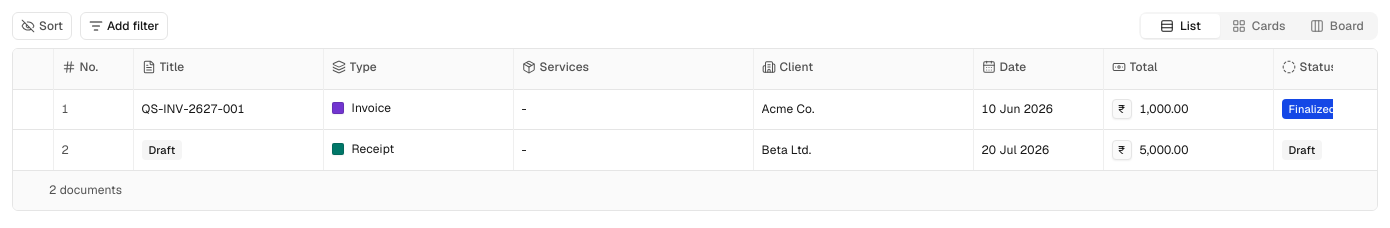
Scenario: DocumentsBrowser › hides nothing until the new row is given a value
Click the button "Add filter": (124, 26) [80,12,168,40]
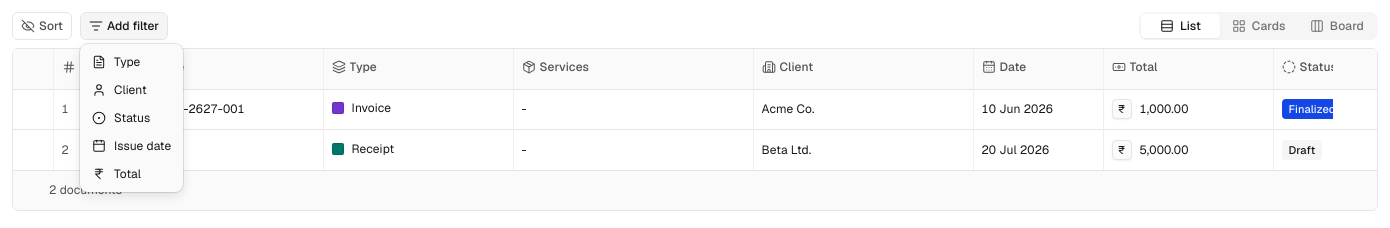
Click the menu item "Status": (121, 118) [92,110,150,126]
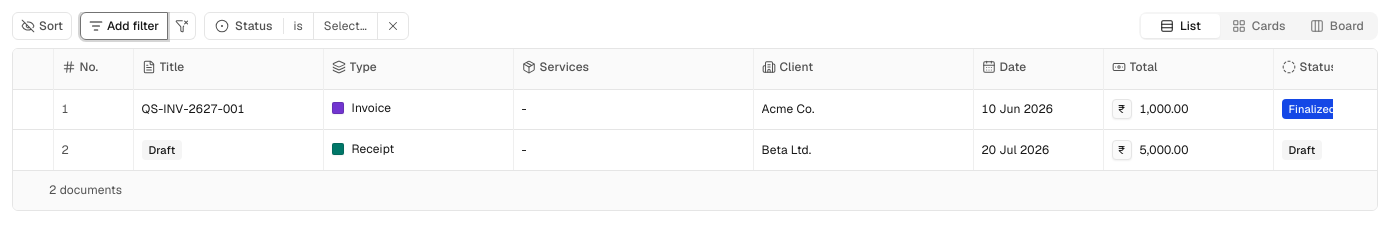
Expected: the element named "status filter" is shown, [204,12,409,40]
